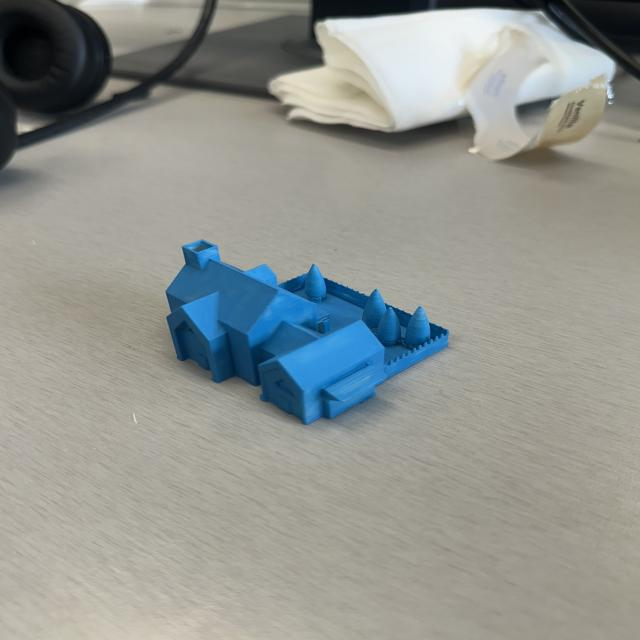house: (164, 239, 452, 428)
